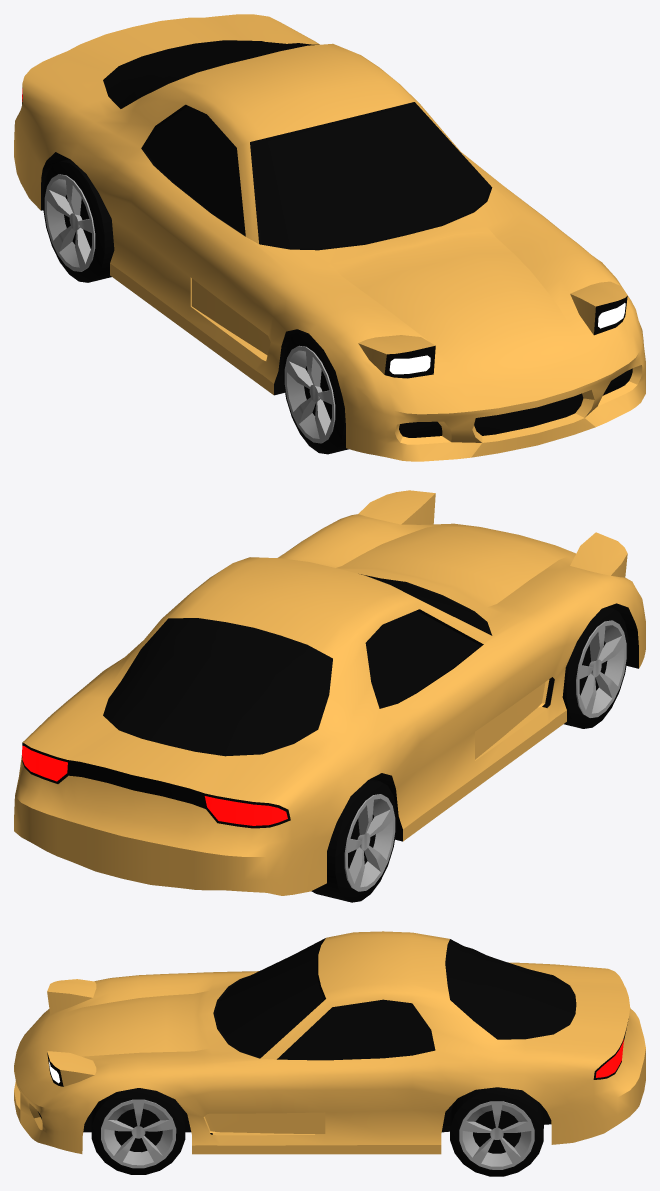
File: car.glb
3 renders of one model, top to bottom at view 1: azimuth 30°, elevation 25°; view 2: azimuth 150°, elevation 25°; view 3: azimuth 270°, elevation 25°, orthographic. The views are drawn at different scales.
Parts seen in each view (by area): view 1: RX-7, BR_Wheel, FR_Wheel; view 2: RX-7, BR_Wheel, FR_Wheel; view 3: RX-7, BL_Wheel, FL_Wheel.
Part boxes in pixels (x1=…): RX-7: x1=14, y1=14, x2=645, y2=461; BR_Wheel: x1=43, y1=159, x2=114, y2=282; FR_Wheel: x1=283, y1=332, x2=348, y2=454; RX-7: x1=14, y1=490, x2=645, y2=895; BR_Wheel: x1=311, y1=779, x2=396, y2=902; FR_Wheel: x1=562, y1=606, x2=628, y2=728; RX-7: x1=14, y1=931, x2=645, y2=1154; BL_Wheel: x1=450, y1=1087, x2=543, y2=1176; FL_Wheel: x1=91, y1=1088, x2=185, y2=1174.
Bounding box in the file's own units: 1.81 × 1.26 × 4.33.
